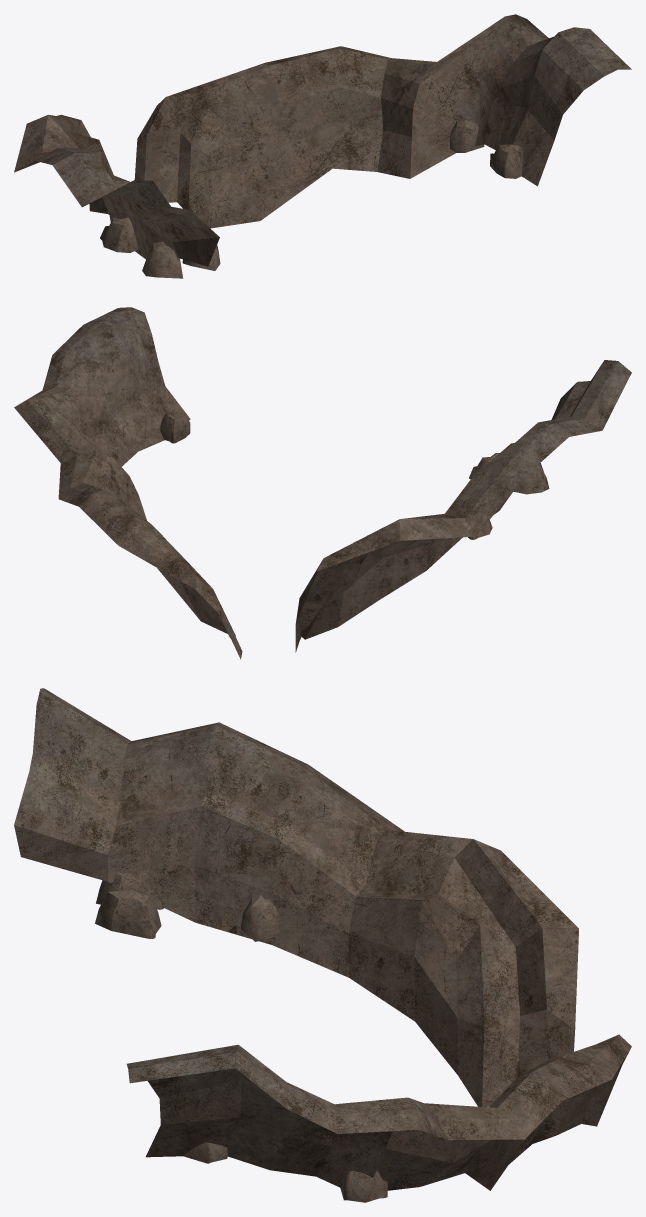
Rendered from BgMD_rock_tutorial03_01.fbx.
3 views of the same model, one above another, from view 1: azimuth 30°, elevation 25°; view 2: azimuth 150°, elevation 25°; view 3: azimuth 270°, elevation 25° (orthographic). The views are drawn at different scales.
Parts seen in each view (by area): view 1: rock_tutorial03_01_2, rock_tutorial03_01_1, rock_tutorial03_01_4, rock_tutorial03_01_3, rock_tutorial03_01_6, rock_tutorial03_01_7; view 2: rock_tutorial03_01_2, rock_tutorial03_01_1, rock_tutorial03_01_6, rock_tutorial03_01_4; view 3: rock_tutorial03_01_1, rock_tutorial03_01_2, rock_tutorial03_01_5, rock_tutorial03_01_3, rock_tutorial03_01_7, rock_tutorial03_01_4.
Part boxes in pixels (x1,y1,x2,y2): rock_tutorial03_01_2: (134, 14, 631, 228); rock_tutorial03_01_1: (14, 114, 219, 266); rock_tutorial03_01_4: (142, 241, 183, 278); rock_tutorial03_01_3: (100, 217, 137, 252); rock_tutorial03_01_6: (490, 144, 523, 178); rock_tutorial03_01_7: (450, 117, 484, 152); rock_tutorial03_01_2: (14, 307, 242, 659); rock_tutorial03_01_1: (295, 360, 631, 652); rock_tutorial03_01_6: (160, 410, 190, 443); rock_tutorial03_01_4: (513, 463, 549, 494); rock_tutorial03_01_1: (14, 688, 578, 1107); rock_tutorial03_01_2: (126, 1034, 631, 1190); rock_tutorial03_01_5: (95, 889, 161, 938); rock_tutorial03_01_3: (241, 895, 280, 941); rock_tutorial03_01_7: (340, 1169, 387, 1202); rock_tutorial03_01_4: (96, 873, 163, 909).
Size of the model in its own units: 7445 by 3066 by 5448.
